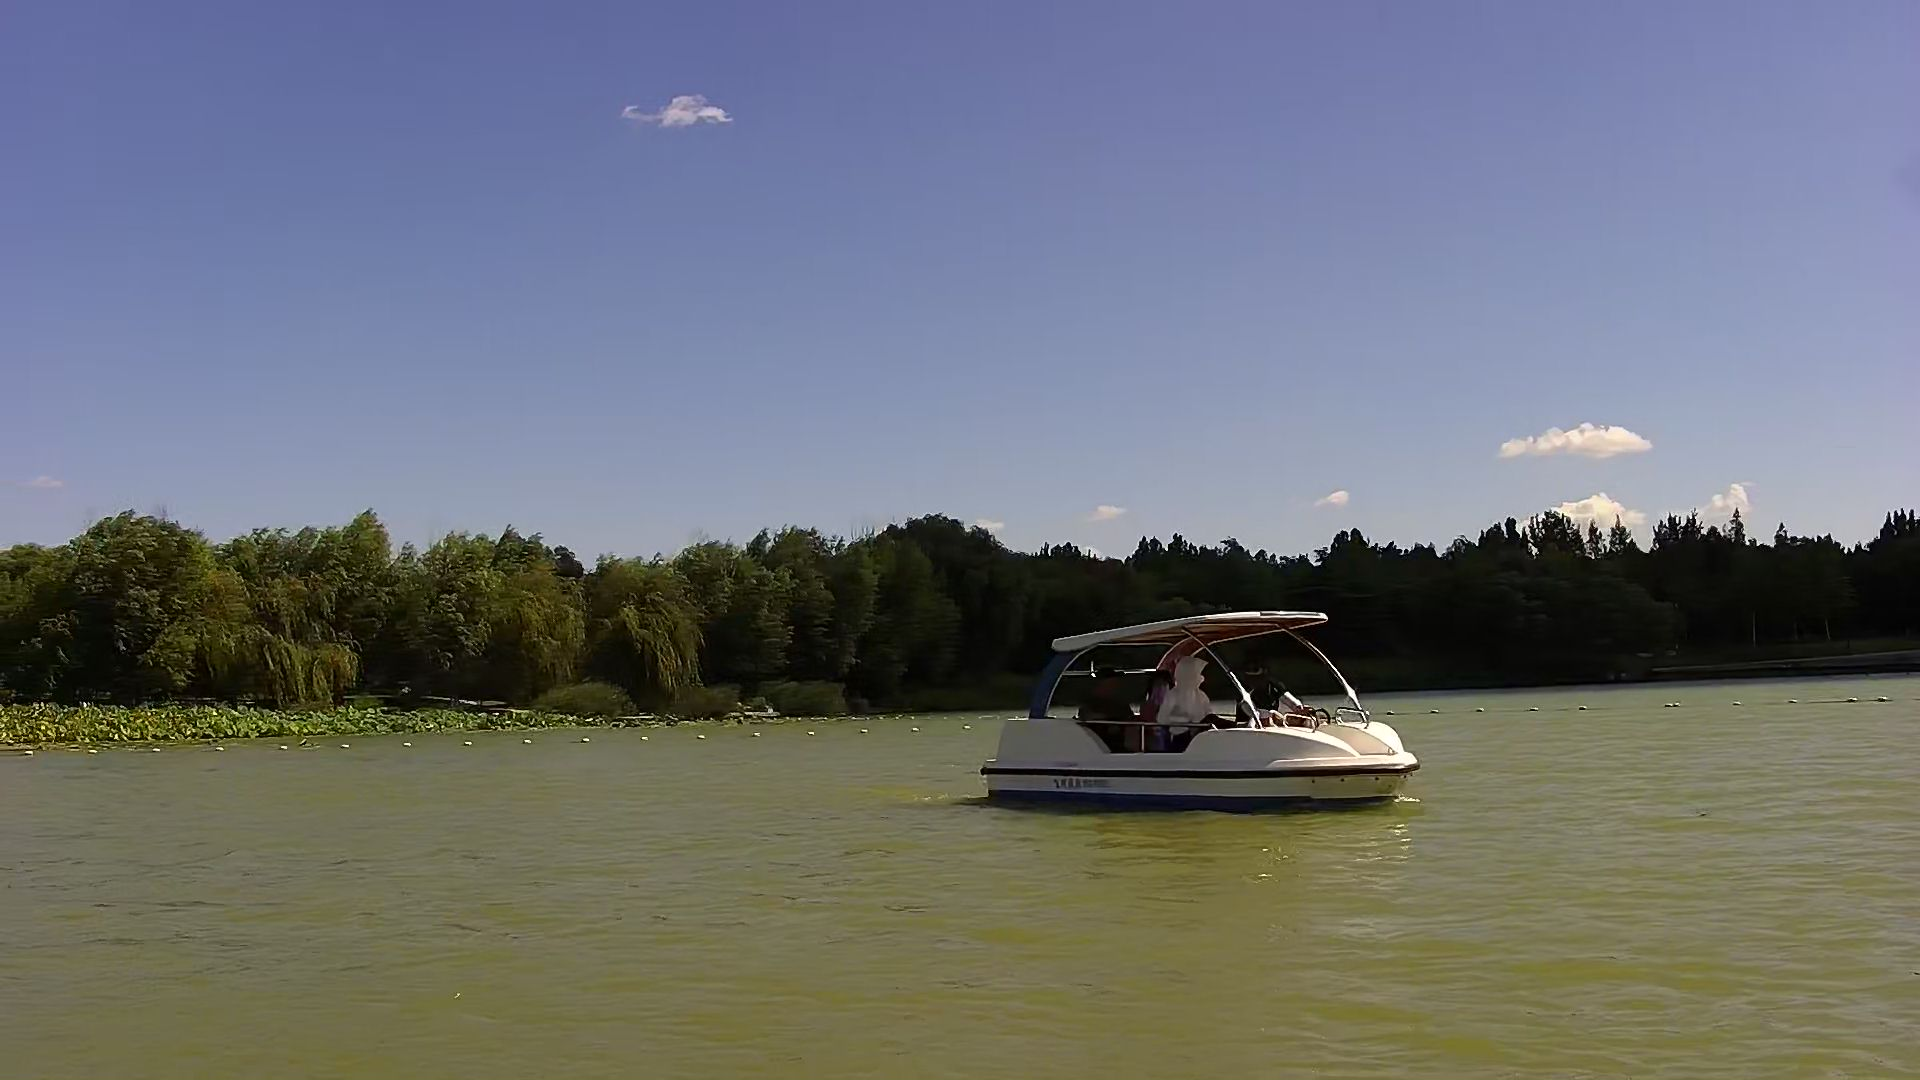boat: (980, 604, 1429, 829)
